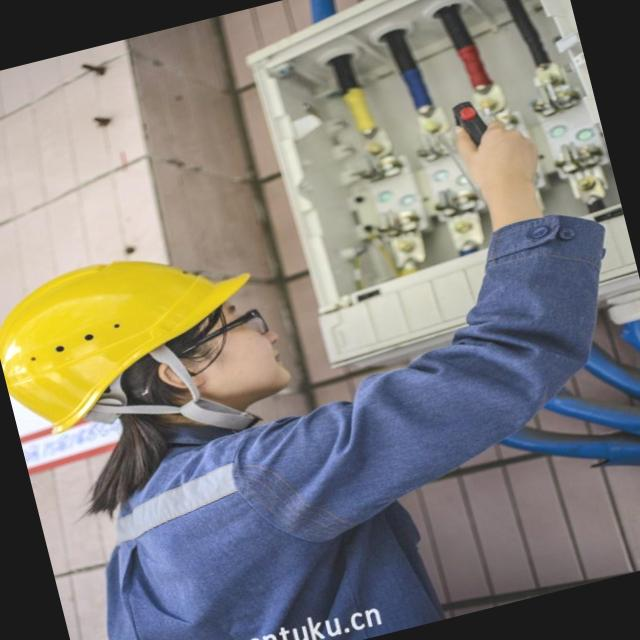helmet: (0, 223, 291, 446)
